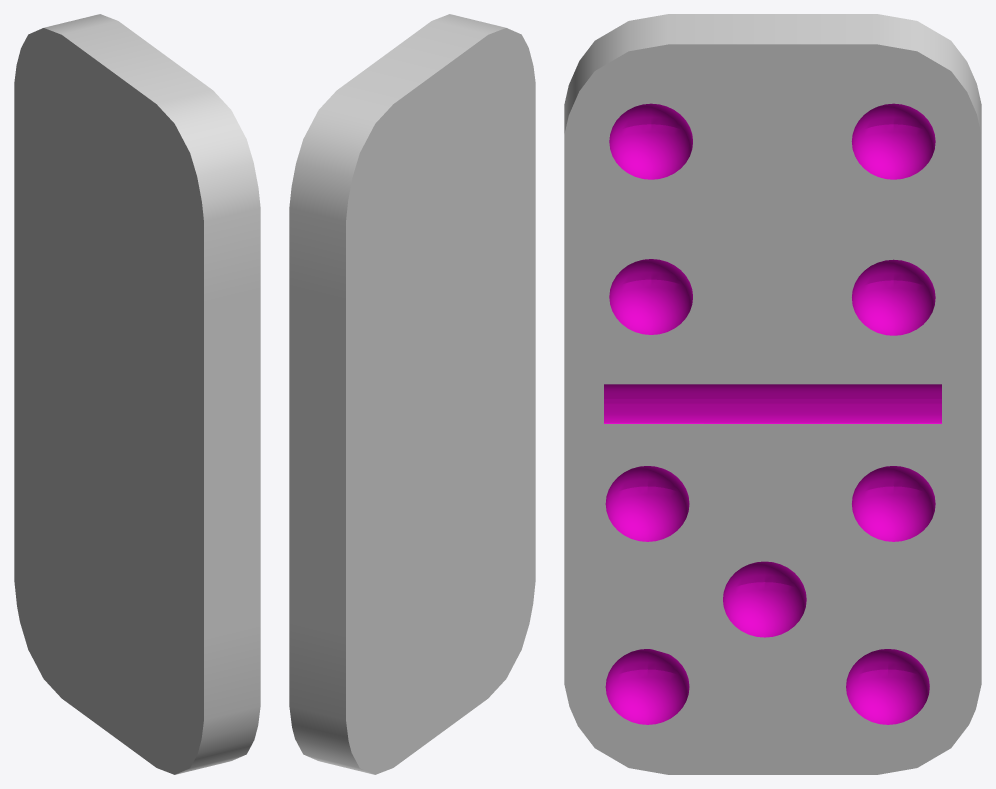
File: Domino.fbx
The picture shows the model from 3 angles, left to right: view 1: azimuth 30°, elevation 25°; view 2: azimuth 150°, elevation 25°; view 3: azimuth 270°, elevation 25°; orthographic projection. The views are drawn at different scales.
Visible parts, largest first — view 1: Cube; view 2: Cube; view 3: Cube.
Boxes of the visible parts, x1,y1,x2,y2 form: Cube: (14,14,260,774); Cube: (289,14,535,774); Cube: (564,14,981,774).
Bounding box in the file's own units: 34.48 × 386 × 200.
